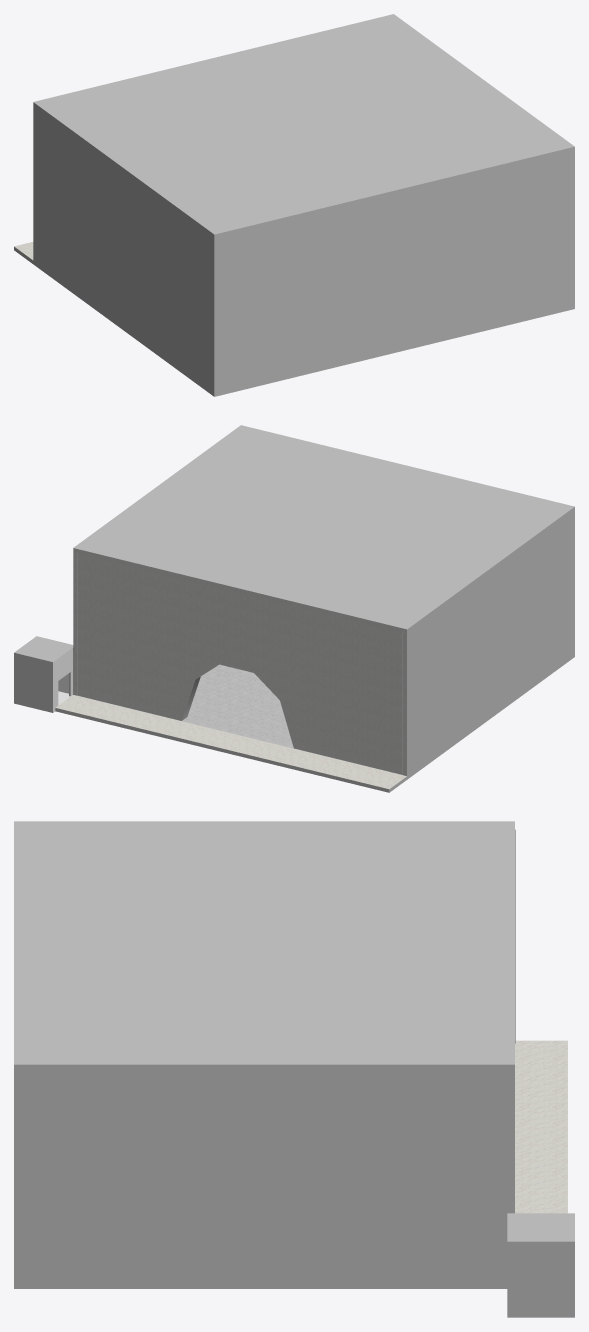
Rendered from stage1_1.fbx.
The picture shows the model from 3 angles, top to bottom: view 1: azimuth 30°, elevation 25°; view 2: azimuth 150°, elevation 25°; view 3: azimuth 270°, elevation 25°; orthographic projection. The views are drawn at different scales.
Parts seen in each view (by area): view 1: building; view 2: building, hall, hallFloor, floor, stairFront; view 3: building, hallFloor.
Boxes of the visible parts, <box> form: building: <box>14,14,574,396</box>; building: <box>14,425,574,792</box>; hall: <box>73,548,406,775</box>; hallFloor: <box>55,695,406,789</box>; floor: <box>77,664,401,774</box>; stairFront: <box>53,648,72,712</box>; building: <box>14,821,574,1317</box>; hallFloor: <box>515,1040,567,1213</box>.
Size of the model in its own units: 8568 by 3301 by 7477.
